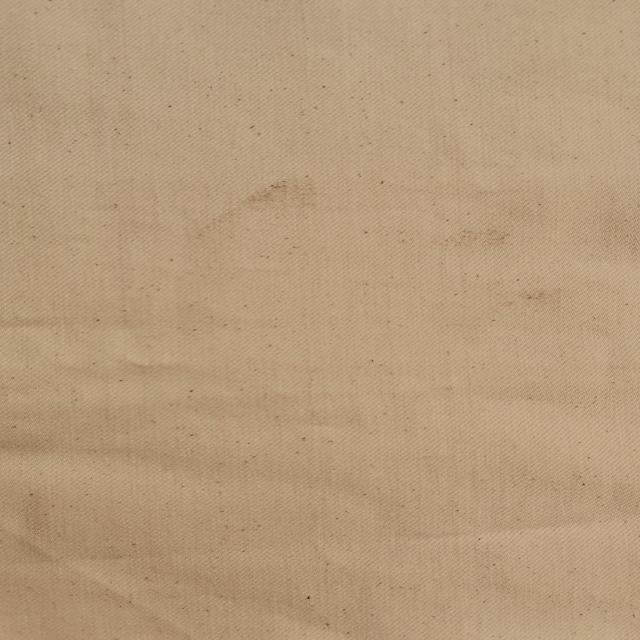taaaches: (188, 173, 326, 254), (414, 222, 524, 258), (508, 287, 574, 308)
